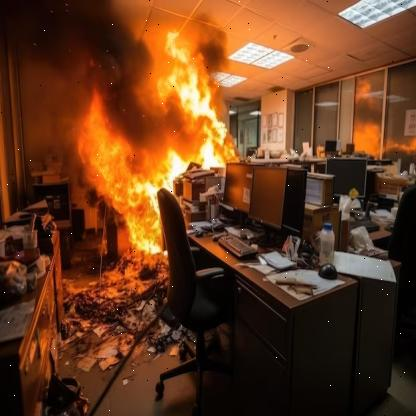fire: (81, 24, 234, 260)
smoke: (0, 0, 187, 174)
